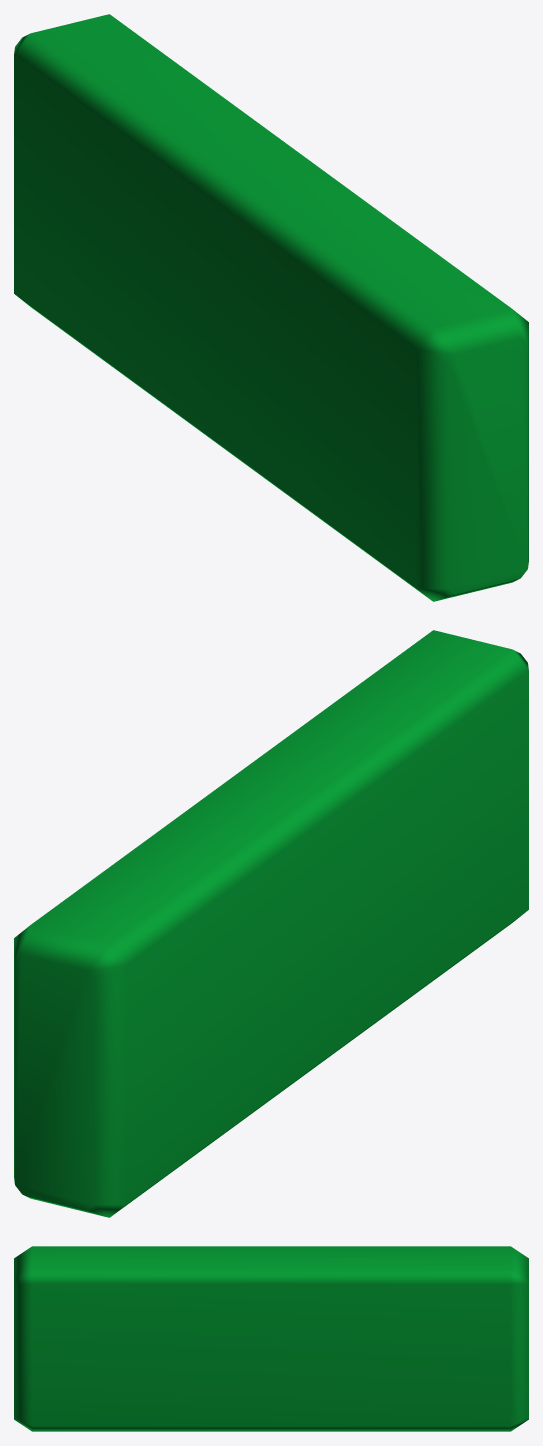
Rendered from Laser_beam_003.fbx.
3 renders of one model, top to bottom at view 1: azimuth 30°, elevation 25°; view 2: azimuth 150°, elevation 25°; view 3: azimuth 270°, elevation 25°, orthographic. The views are drawn at different scales.
Parts seen in each view (by area): view 1: Laser_beam_003; view 2: Laser_beam_003; view 3: Laser_beam_003.
Boxes of the visible parts, left/top/right/bottom form: Laser_beam_003: left=14, top=14, right=528, bottom=601; Laser_beam_003: left=14, top=630, right=528, bottom=1217; Laser_beam_003: left=14, top=1246, right=528, bottom=1431.
Size of the model in its own units: 15.82 by 106 by 36.85.
